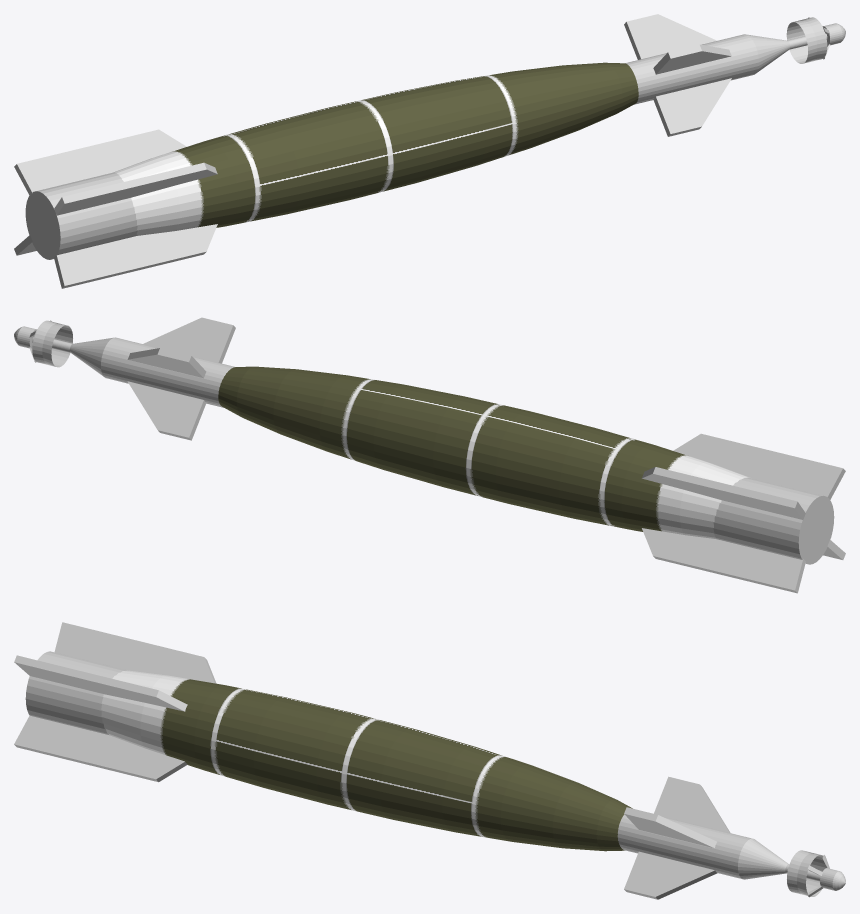
The model's file is f5fgbu101.glb.
The picture shows the model from 3 angles, top to bottom: view 1: azimuth 30°, elevation 25°; view 2: azimuth 150°, elevation 25°; view 3: azimuth 330°, elevation 25°; orthographic projection.
Visible parts, largest first — view 1: 球.002; view 2: 球.002; view 3: 球.002.
Boxes of the visible parts, box(x1,y1,x2,y2) form: 球.002: box(14, 14, 845, 288); 球.002: box(14, 317, 845, 593); 球.002: box(14, 622, 845, 899).
Bounding box in the file's own units: 4.24 × 0.4634 × 0.4634.
Materials: 1 (1 with a texture image).
